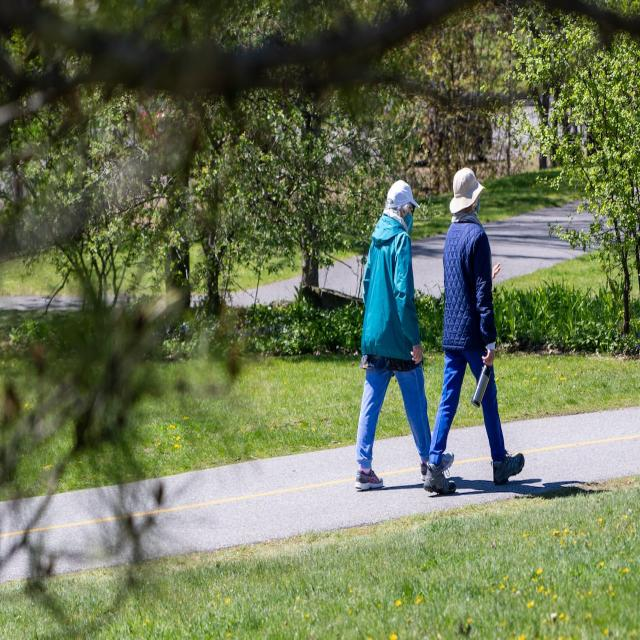Person: (425, 165, 524, 494), (354, 179, 454, 490)
